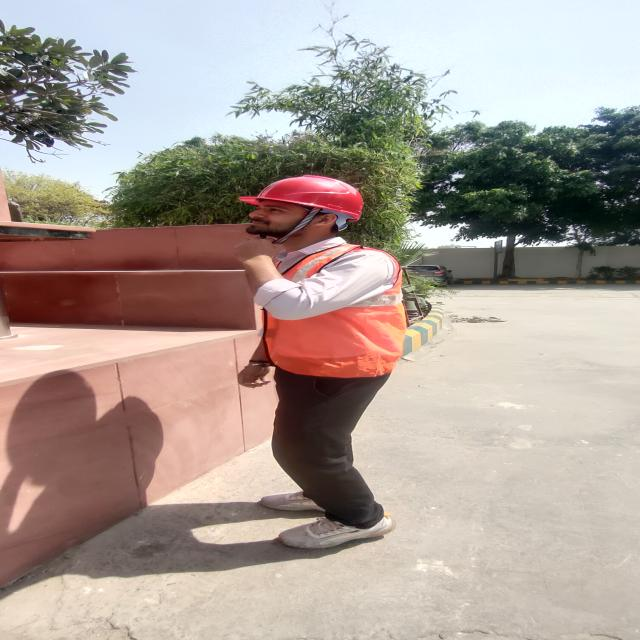safe: (238, 176, 407, 548)
